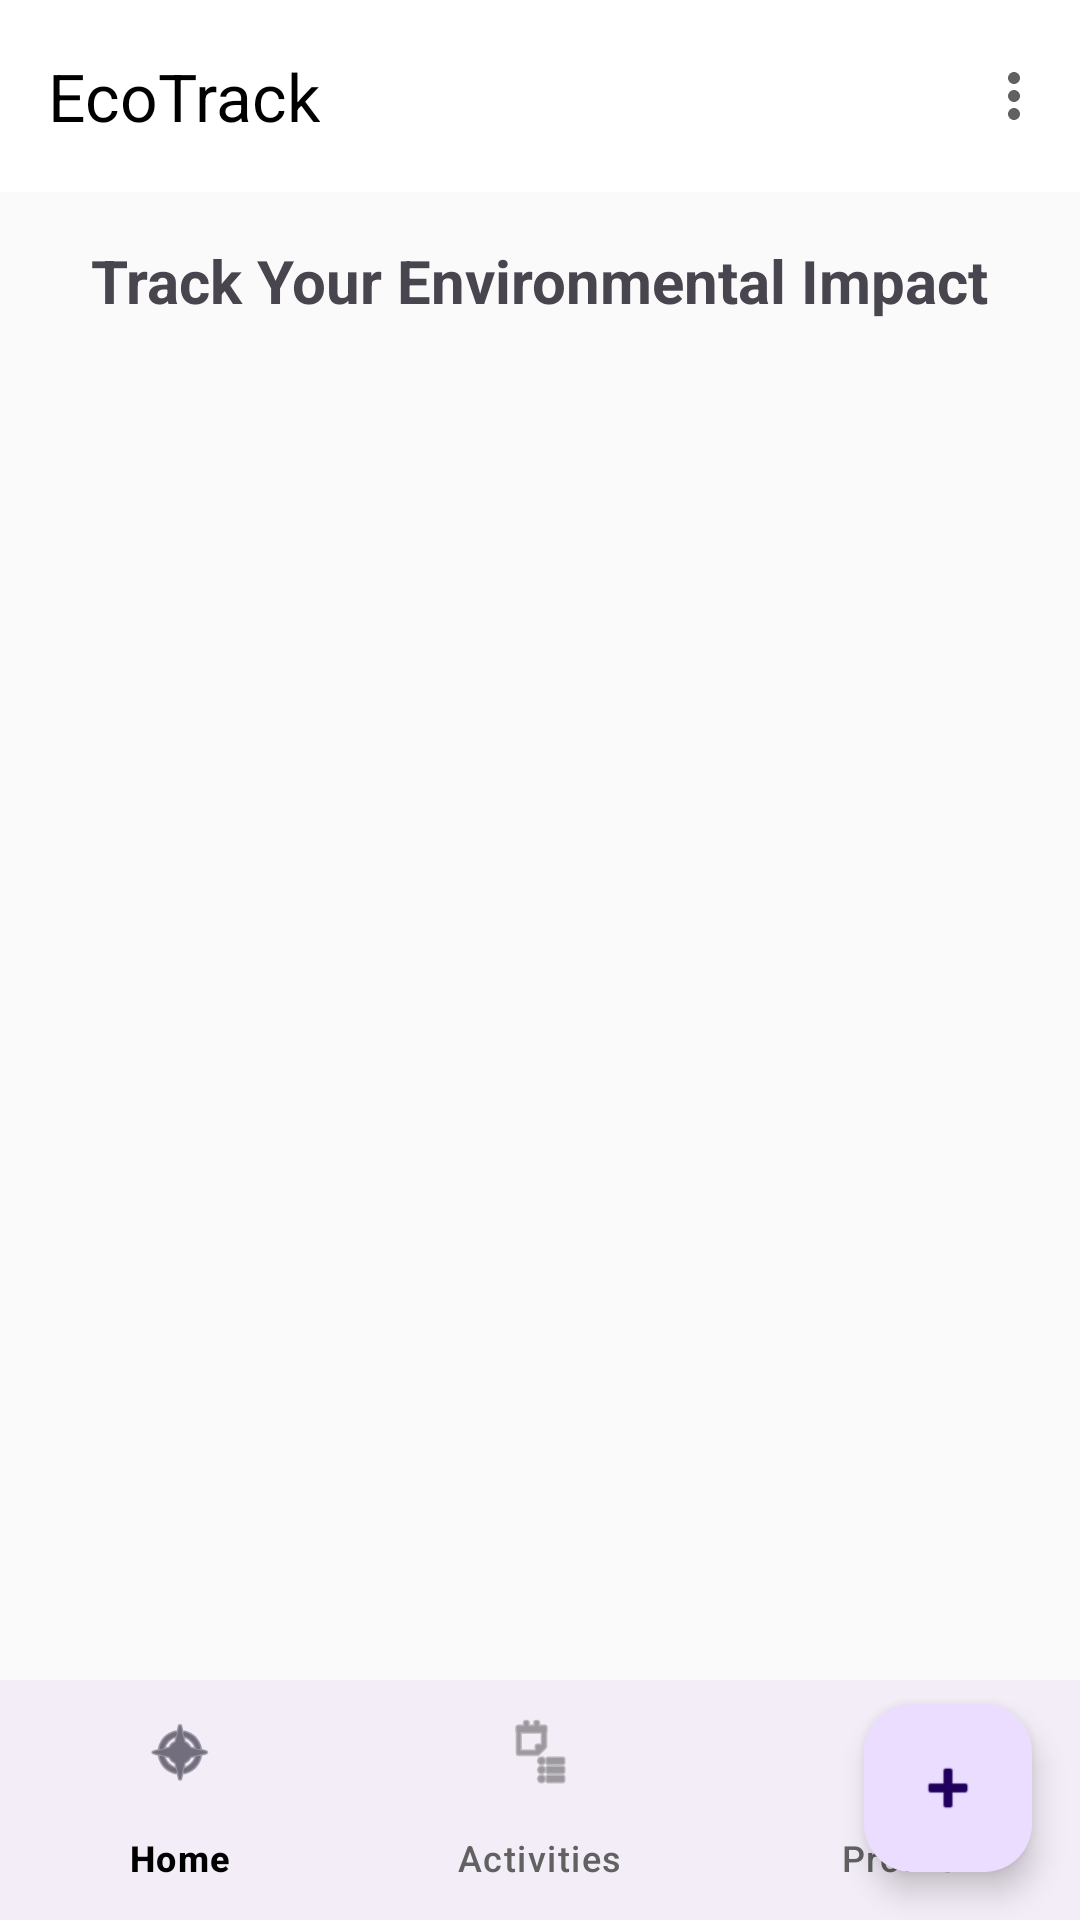

Icon bounding boxes for this 1080×1920 phone screenshot, format box=[x1, y1, x2, y2]:
Add Activity: box=[864, 1704, 1032, 1872]
